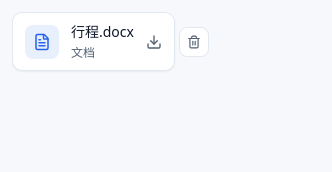
Test: ChannelFileLink delete › deletes the file and its workspace copy
The image size is (332, 172).
Click the button with class "channel-file-delete" at x=194, y=42, box [179,27,209,57]
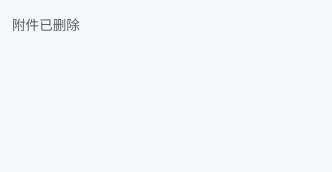
Result: the text "附件已删除" is shown at [12,14,80,35]
